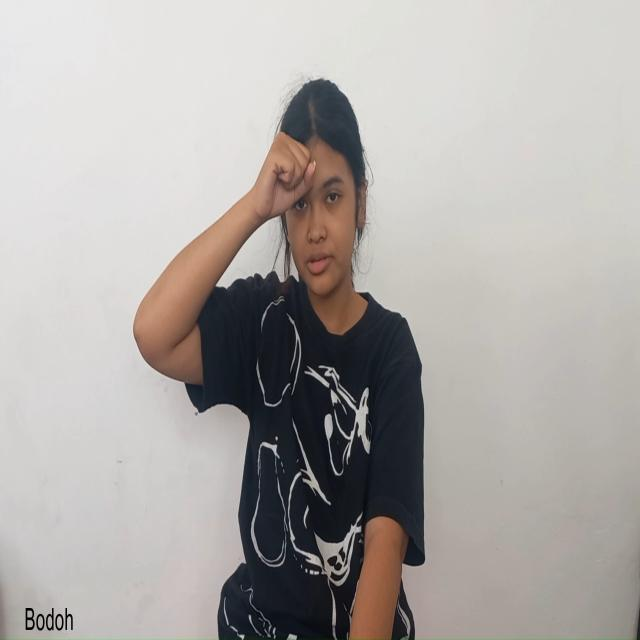Bodoh -BISINDO-: (189, 44, 378, 358)
